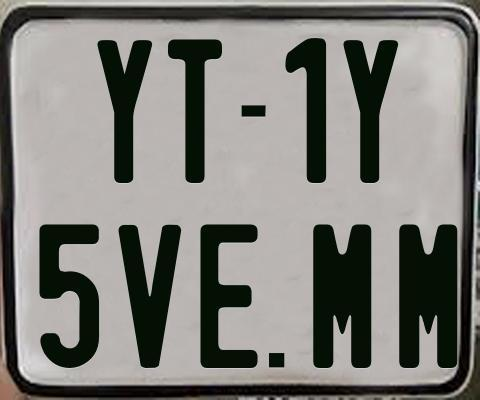1: (285, 36, 328, 187)
5: (36, 223, 101, 367)
E: (199, 222, 261, 367)
M: (397, 221, 462, 379), (311, 222, 374, 366)
T: (166, 38, 220, 182)
V: (116, 225, 181, 374)
Y: (94, 40, 153, 188), (341, 40, 398, 188)
